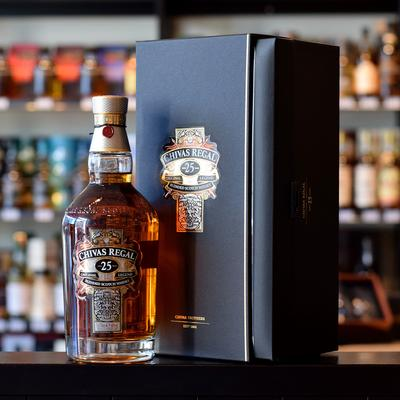Chivas Regal: (52, 85, 171, 372)
